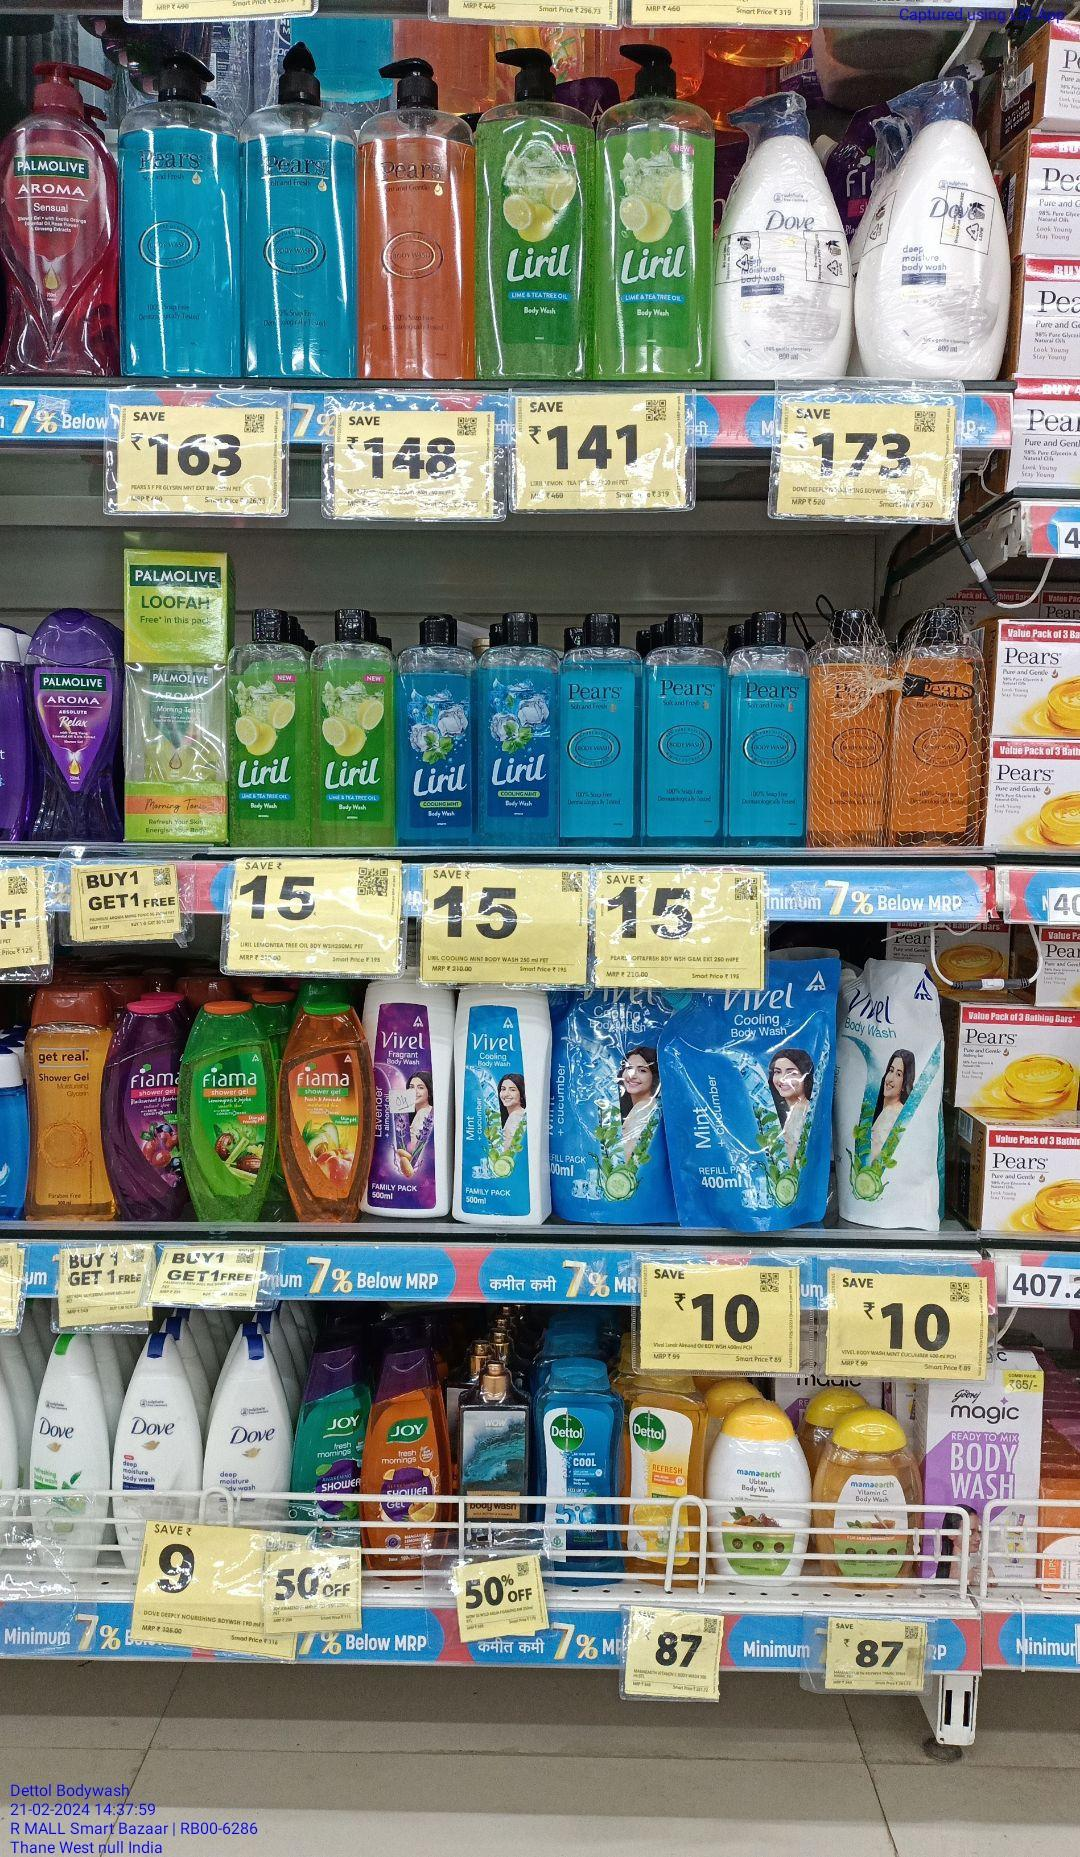Dettol_Bodywash_Cool: (530, 1355, 625, 1587)
Dettol_Bodywash_Refresh: (625, 1374, 710, 1594)
Dove_Deep_Moisture_Body_Wash_250ML: (111, 1329, 203, 1520), (202, 1330, 289, 1522)
Dove_Refreshing_Body_Wash_250ML: (27, 1333, 109, 1568)
Fiama_Shower_Gel_Lemongrass_and_Jojoba_250ML: (177, 999, 278, 1221)
Fiama_Shower_Gel_Peach_and_Avocado_250ML: (276, 996, 375, 1222)
Get_Real_Shower_Gel_Moisturising_Glycerin_300ML: (27, 984, 102, 1220)
Joy_Shower_Gel_Mandarin_and_Lemongrass_250ML: (361, 1342, 453, 1583)
Joy_Shower_Gel_Mint_and_Eucalyptus_250ML: (289, 1346, 363, 1522)
Liril_Cooling_Mint_Body_Wash_250ML: (395, 601, 478, 847), (478, 599, 559, 844)
Liril_Lime_and_Tea_Tree_Oil_Body_Wash_250ML: (307, 603, 395, 844), (226, 603, 309, 848)
Palmolive_Aroma_Relax_250ML: (21, 605, 125, 840)
Pears_Pure_Glycerin_and_Mint_Extracts_Body_Wash_250ML: (644, 607, 729, 847), (561, 605, 645, 844), (728, 608, 813, 846)
